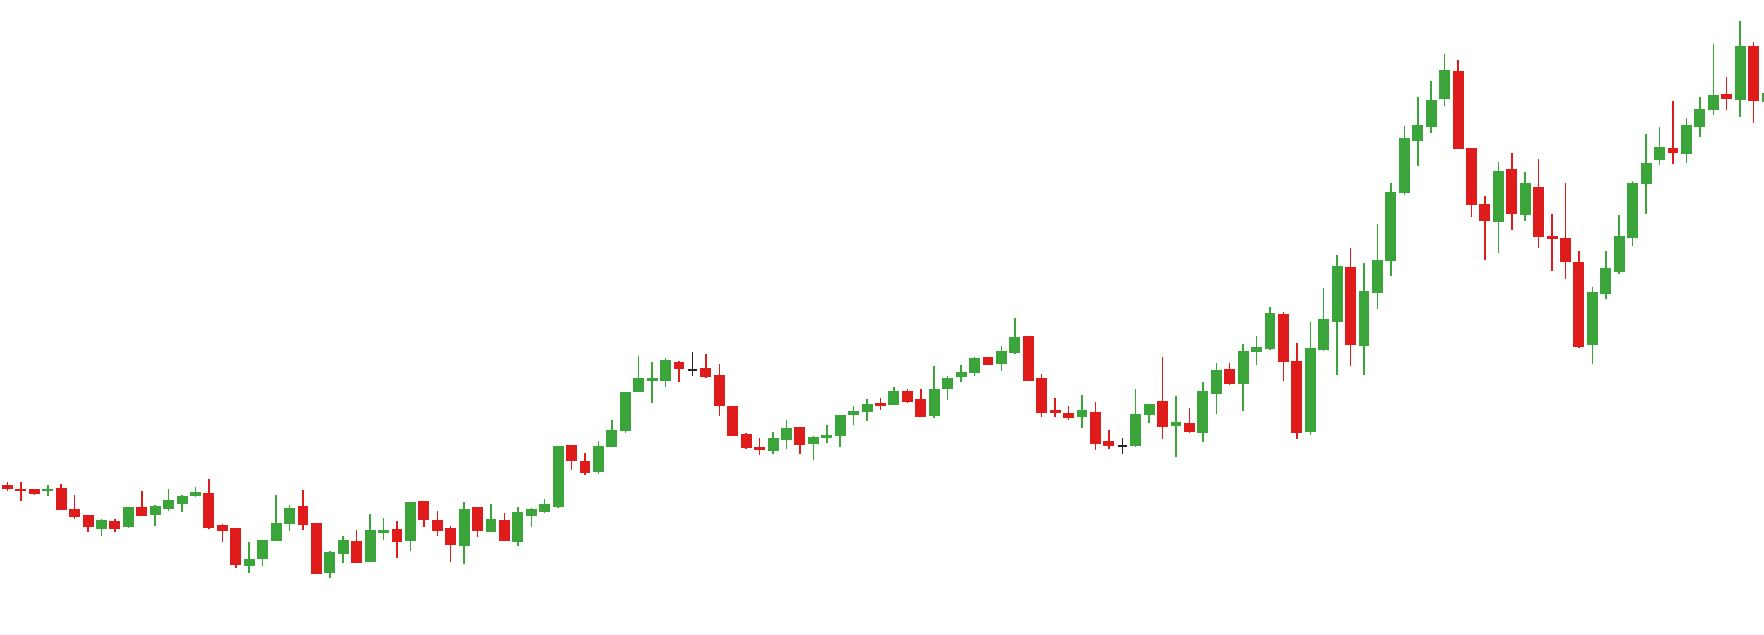buy: (1231, 327, 1318, 442)
